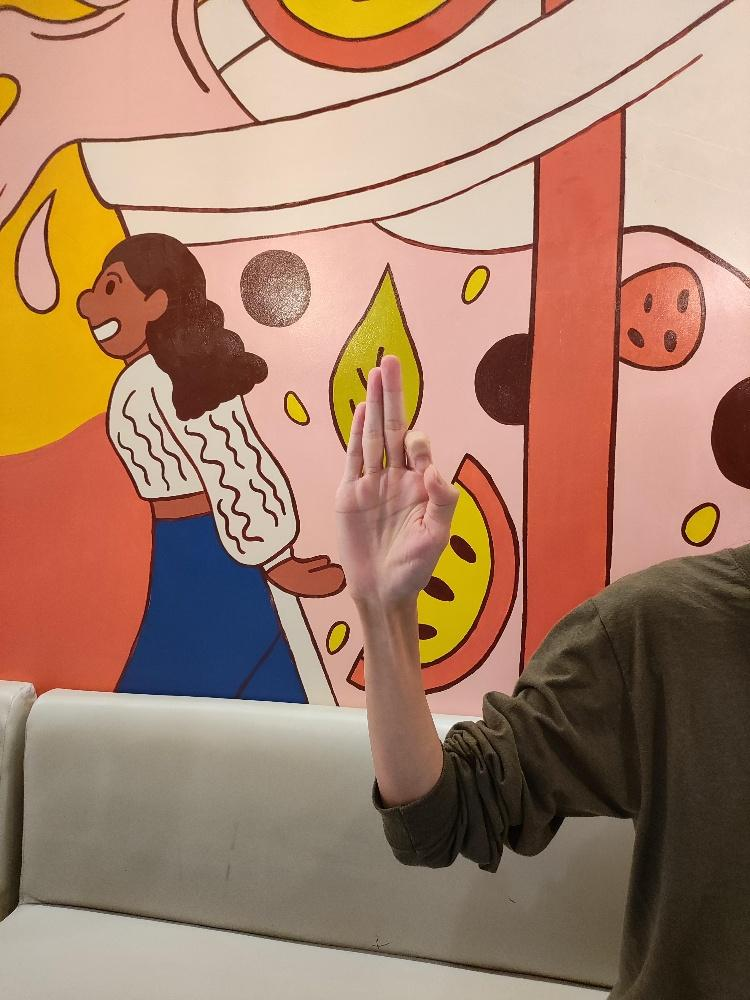f: (332, 350, 461, 614)
